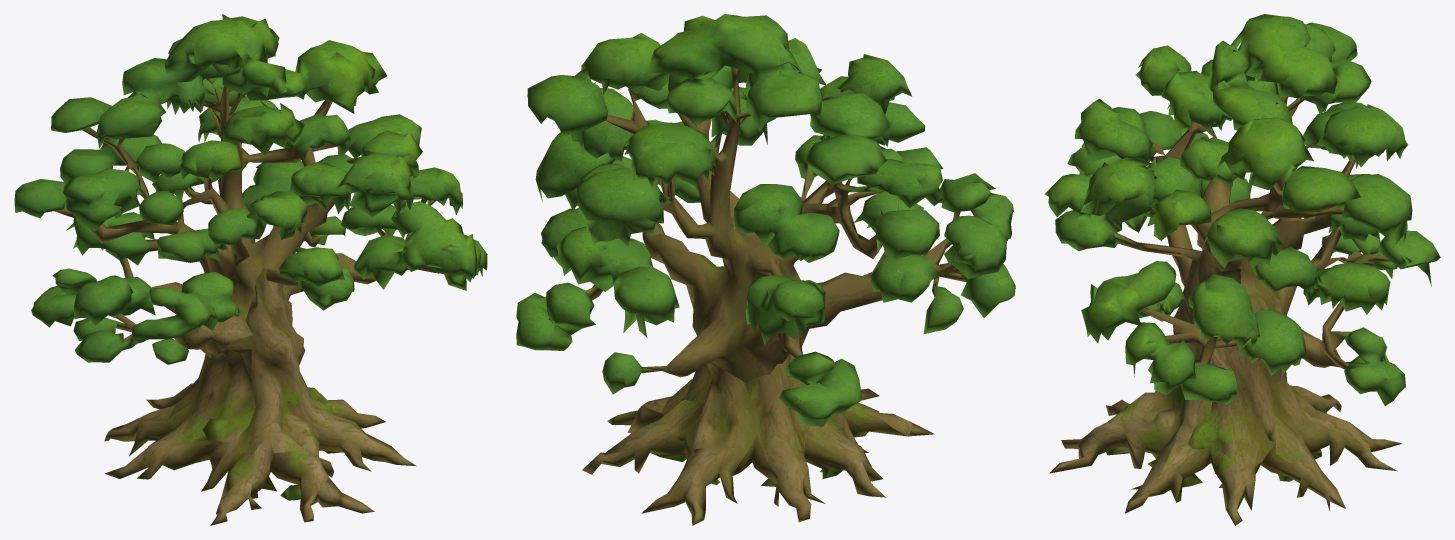
The model's file is tree_a.glb.
3 views of the same model, side by side, from view 1: azimuth 30°, elevation 25°; view 2: azimuth 150°, elevation 25°; view 3: azimuth 270°, elevation 25° (orthographic). The views are drawn at different scales.
Visible parts, largest first — view 1: tripo_part_0, tripo_part_3, tripo_part_1, tripo_part_7, tripo_part_5, tripo_part_2, tripo_part_25, tripo_part_12, tripo_part_13, tripo_part_14, tripo_part_8, tripo_part_24 (+24 smaller); view 2: tripo_part_0, tripo_part_1, tripo_part_4, tripo_part_2, tripo_part_6, tripo_part_16, tripo_part_19, tripo_part_9, tripo_part_12, tripo_part_17, tripo_part_15, tripo_part_23 (+20 smaller); view 3: tripo_part_0, tripo_part_1, tripo_part_2, tripo_part_6, tripo_part_3, tripo_part_33, tripo_part_4, tripo_part_10, tripo_part_7, tripo_part_13, tripo_part_22, tripo_part_9 (+19 smaller).
Boxes of the visible parts, x1,y1,x2,y2 form: tripo_part_0: [51, 14, 387, 148]; tripo_part_3: [105, 267, 371, 491]; tripo_part_1: [56, 85, 443, 357]; tripo_part_7: [353, 201, 478, 289]; tripo_part_5: [182, 341, 255, 442]; tripo_part_2: [104, 384, 416, 466]; tripo_part_25: [216, 436, 374, 522]; tripo_part_12: [75, 287, 217, 362]; tripo_part_13: [334, 151, 414, 216]; tripo_part_14: [208, 191, 307, 244]; tripo_part_8: [135, 140, 242, 191]; tripo_part_24: [63, 168, 144, 231]; tripo_part_0: [527, 14, 889, 184]; tripo_part_1: [605, 67, 966, 382]; tripo_part_4: [634, 362, 801, 513]; tripo_part_2: [582, 396, 825, 525]; tripo_part_6: [556, 163, 679, 337]; tripo_part_16: [734, 184, 839, 262]; tripo_part_19: [576, 168, 669, 246]; tripo_part_9: [624, 123, 716, 188]; tripo_part_12: [939, 173, 1015, 317]; tripo_part_17: [778, 351, 861, 426]; tripo_part_15: [745, 274, 825, 344]; tripo_part_23: [516, 282, 595, 350]; tripo_part_0: [1207, 14, 1371, 212]; tripo_part_1: [1114, 83, 1356, 367]; tripo_part_2: [1125, 385, 1402, 525]; tripo_part_6: [1253, 230, 1440, 314]; tripo_part_3: [1088, 260, 1240, 479]; tripo_part_33: [1187, 346, 1275, 466]; tripo_part_4: [1267, 368, 1397, 471]; tripo_part_10: [1125, 322, 1237, 404]; tripo_part_7: [1081, 261, 1184, 343]; tripo_part_13: [1080, 157, 1156, 234]; tripo_part_22: [1188, 274, 1259, 350]; tripo_part_9: [1316, 104, 1407, 167].
Bounding box in the file's own units: 1 × 0.9784 × 0.8077.
Materials: 45 (45 with a texture image).
